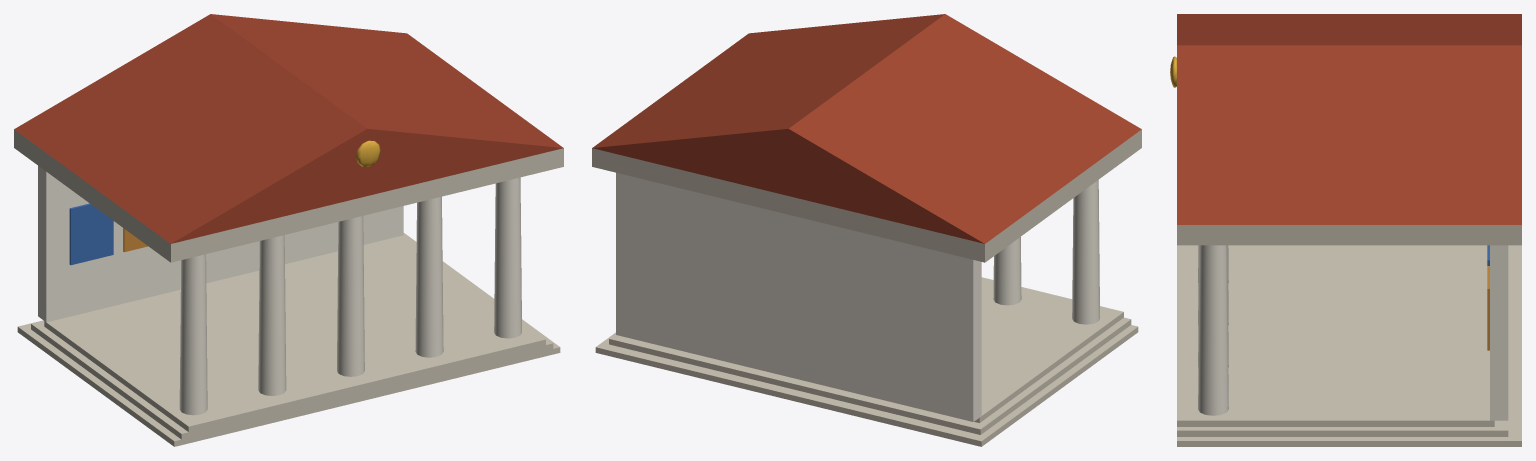
The model's file is museum.glb.
The picture shows the model from 3 angles, left to right: view 1: azimuth 30°, elevation 25°; view 2: azimuth 150°, elevation 25°; view 3: azimuth 270°, elevation 25°; orthographic projection. The views are drawn at different scales.
Visible parts, largest first — view 1: museum_mesh; view 2: museum_mesh; view 3: museum_mesh.
Part boxes in pixels (x1,y1,x2,y2): museum_mesh: (14, 14, 563, 446); museum_mesh: (592, 14, 1141, 446); museum_mesh: (1170, 14, 1521, 446).
Bounding box in the file's own units: 11 × 7.25 × 7.76.
